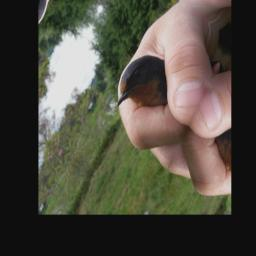Swallow: (108, 40, 183, 135)
